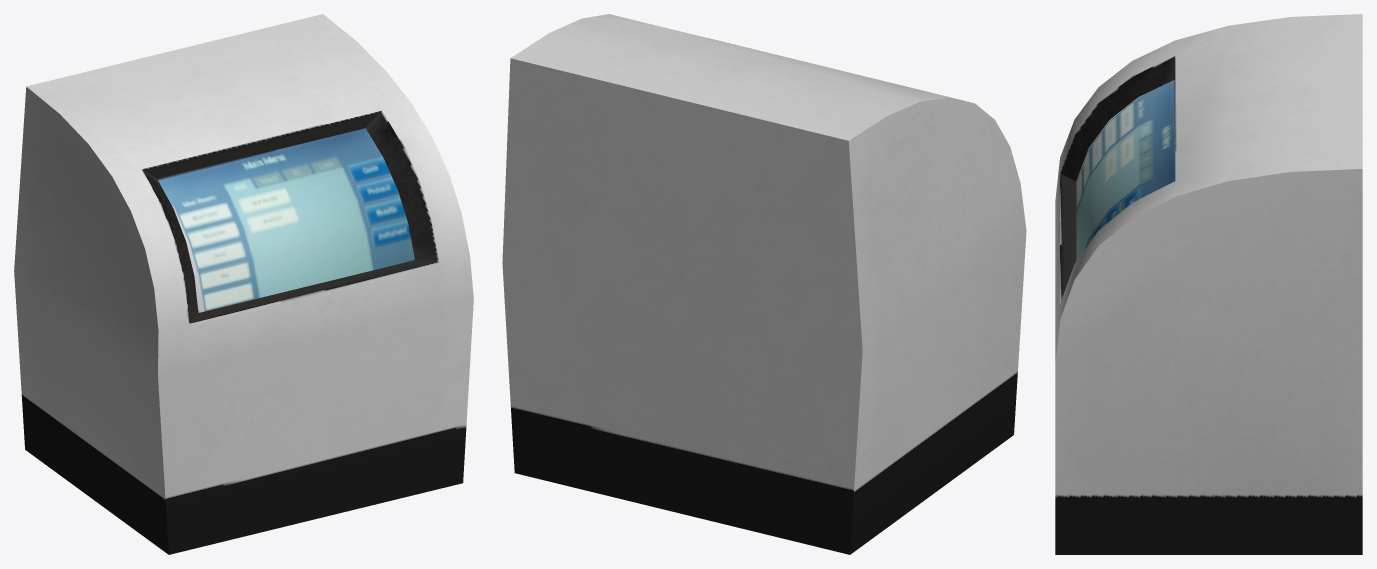
File: 酶标仪.glb
3 views of the same model, side by side, from view 1: azimuth 30°, elevation 25°; view 2: azimuth 150°, elevation 25°; view 3: azimuth 270°, elevation 25° (orthographic). The views are drawn at different scales.
Parts seen in each view (by area): view 1: 低酶标仪; view 2: 低酶标仪; view 3: 低酶标仪.
Boxes of the visible parts, bbox=[...] form: 低酶标仪: bbox=[14, 14, 473, 554]; 低酶标仪: bbox=[502, 14, 1026, 554]; 低酶标仪: bbox=[1055, 14, 1362, 554].
Size of the model in its own units: 0.0233 by 0.0256 by 0.0184.
Materials: 1 (1 with a texture image).
